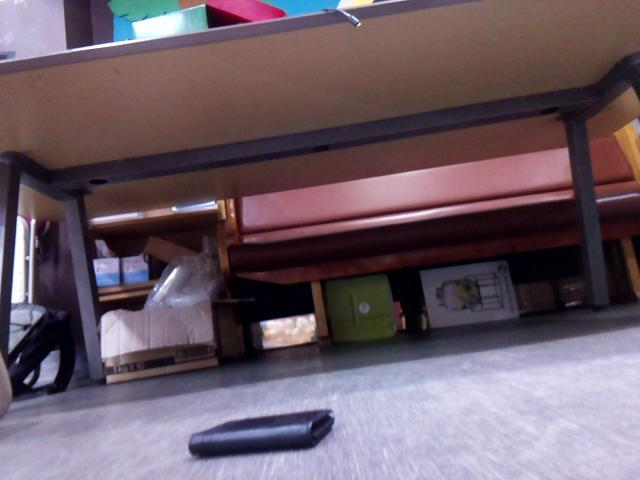wallet: (183, 401, 337, 459)
